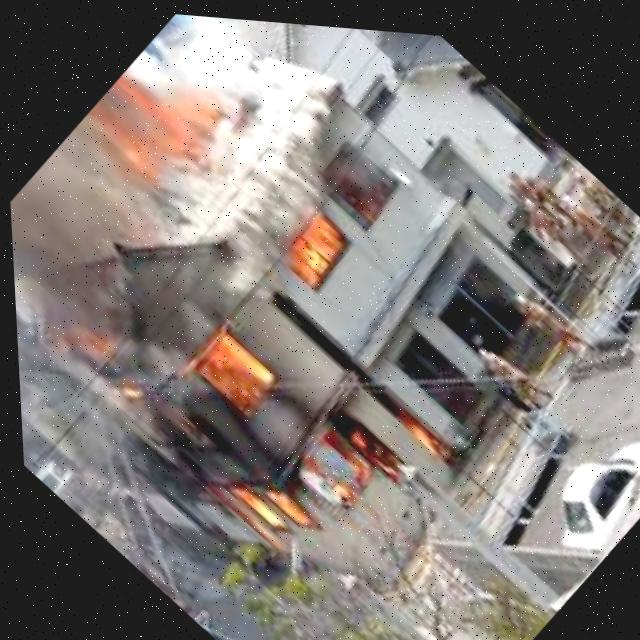Fire: (58, 221, 472, 637), (69, 28, 245, 210), (272, 194, 356, 280)
Smoke: (5, 113, 191, 358)
